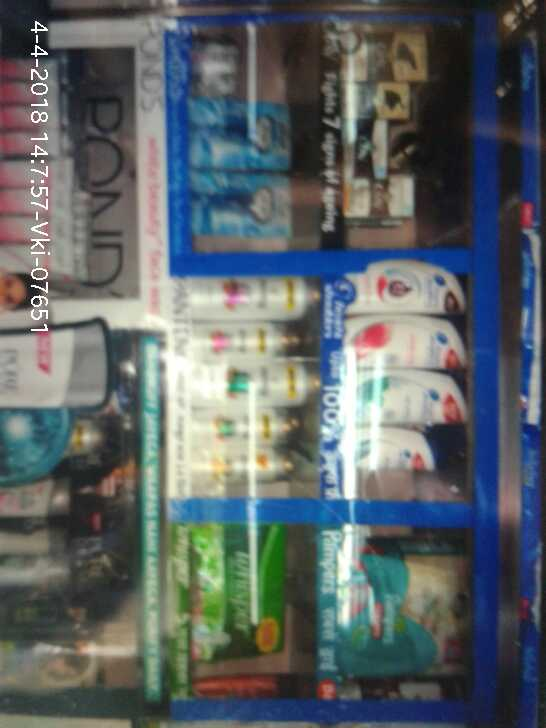venus: (188, 167, 292, 237), (188, 99, 291, 167)
